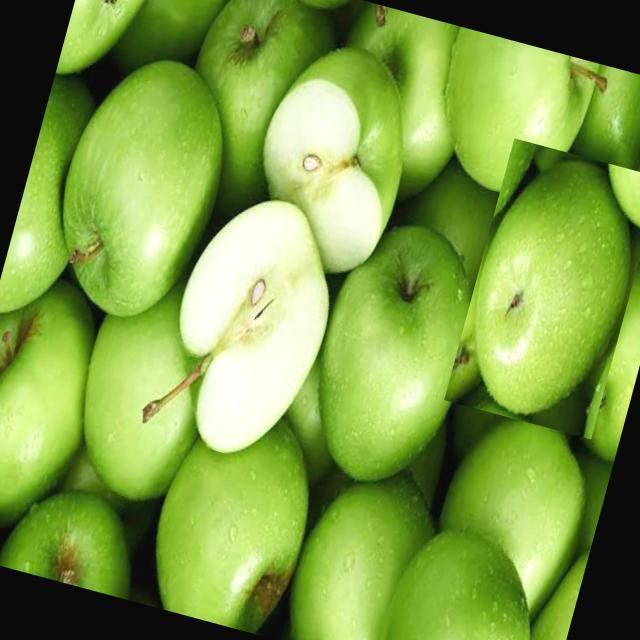Green Apple: (62, 59, 225, 318), (472, 158, 631, 417), (319, 224, 472, 483), (155, 418, 310, 634), (262, 47, 405, 274), (439, 414, 587, 620), (195, 1, 338, 214), (445, 27, 607, 193), (83, 286, 201, 501), (288, 472, 435, 640), (1, 279, 95, 529), (1, 74, 96, 315), (378, 529, 533, 640), (1, 490, 132, 600), (582, 228, 640, 465), (111, 1, 230, 73), (54, 1, 149, 76), (267, 1, 375, 11)
Red Apple: (1, 1, 640, 640)
